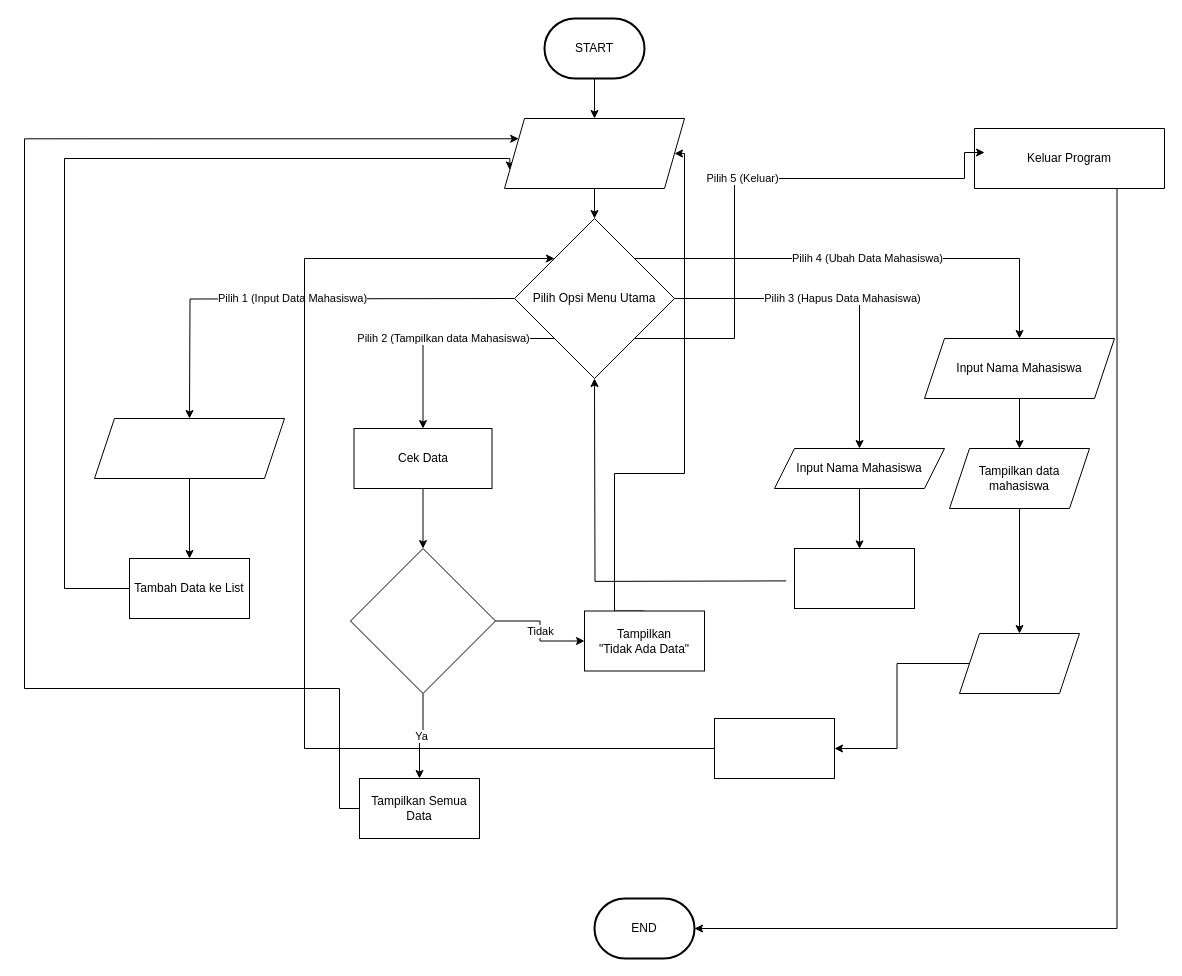
This 1182x976 diagram has some shape labels left out. Each missing label, with the centre of its shape:
"Ada Data?" goes at pixel 423 621.
"Hapus Data Mahasiswa Sesuai Nama yang Di Input" goes at pixel 854 578.
"Input Nama dan Nilai Mahasiswa" goes at pixel 189 448.
"Masukkan Data Baru" goes at pixel 1019 663.
"Simpan Data" goes at pixel 774 748.
"Tampilkan Menu Utama" goes at pixel 594 153.
